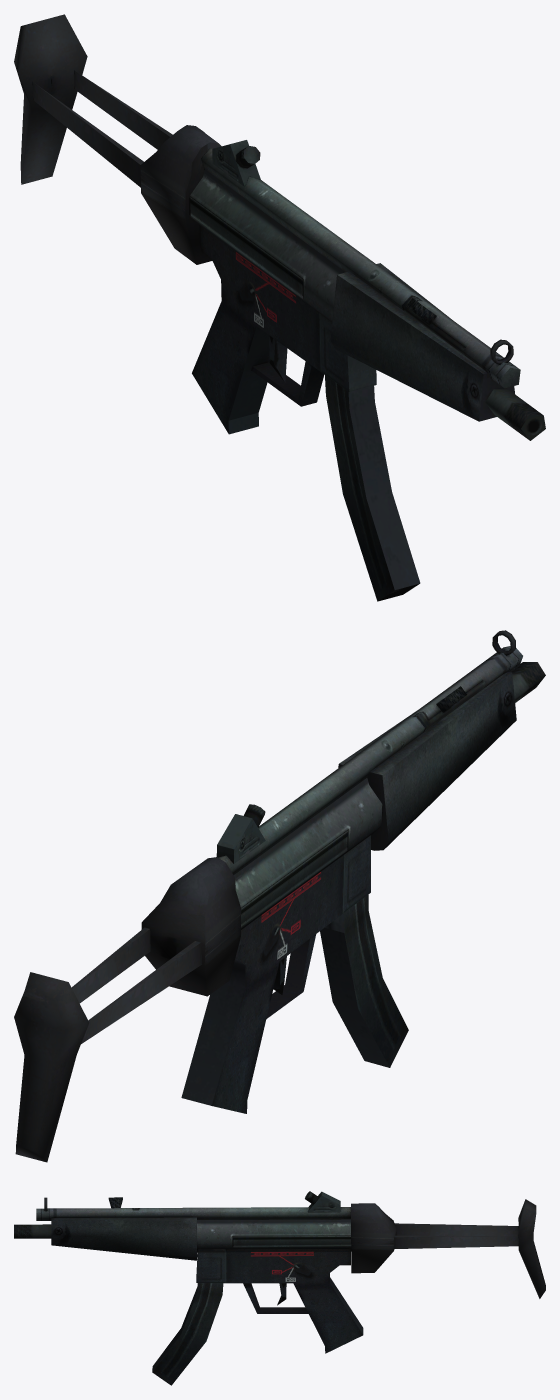
3 views of the same model, one above another, from view 1: azimuth 30°, elevation 25°; view 2: azimuth 150°, elevation 25°; view 3: azimuth 270°, elevation 25° (orthographic). The views are drawn at different scales.
Parts seen in each view (by area): view 1: SMDImporter.Mesh.w_smg_mp5; view 2: SMDImporter.Mesh.w_smg_mp5; view 3: SMDImporter.Mesh.w_smg_mp5.
Boxes of the visible parts, x1,y1,x2,y2 form: SMDImporter.Mesh.w_smg_mp5: (14,14,545,601); SMDImporter.Mesh.w_smg_mp5: (14,630,545,1162); SMDImporter.Mesh.w_smg_mp5: (14,1191,545,1385).
Size of the model in its own units: 6.55 by 32.81 by 83.71.
